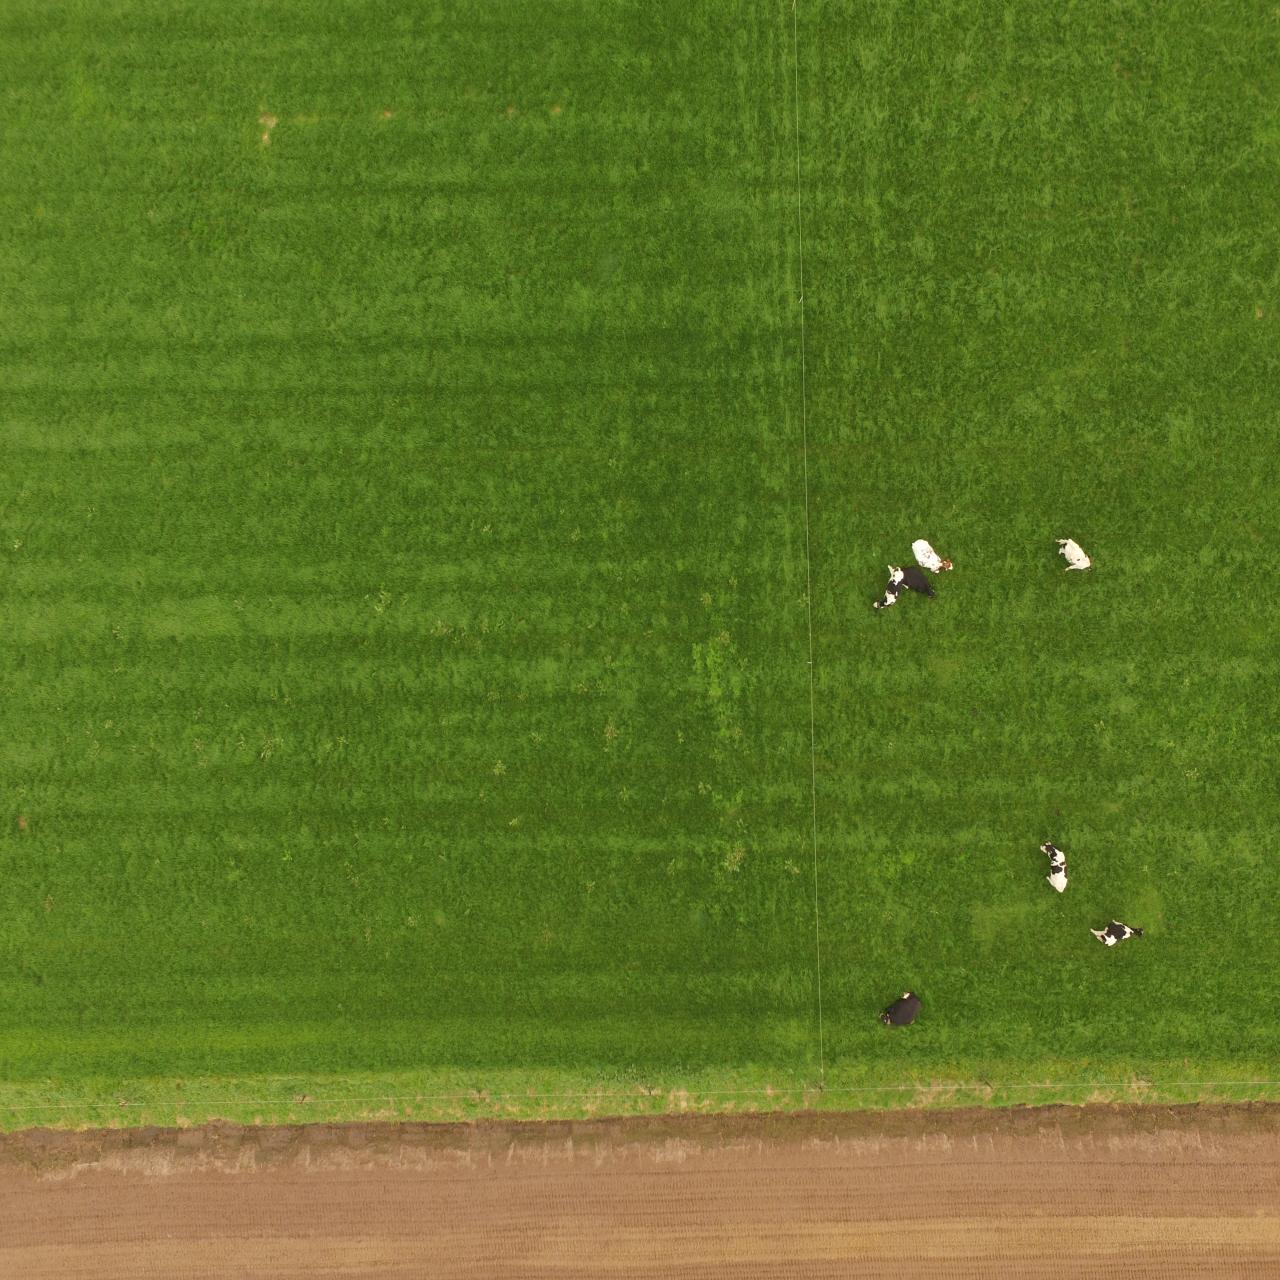cow: (1051, 531, 1103, 587), (1035, 829, 1075, 899), (907, 531, 964, 577), (873, 985, 926, 1033), (1082, 914, 1145, 953), (901, 554, 938, 613), (871, 566, 905, 608)
